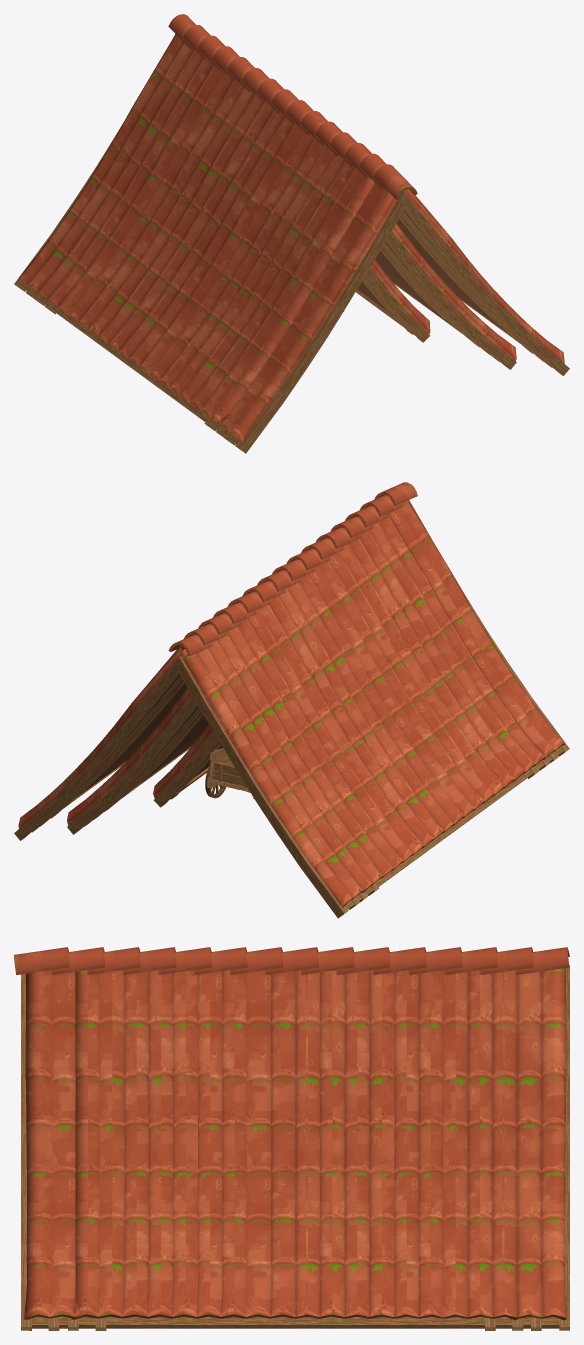
The model's file is village.glb.
The picture shows the model from 3 angles, top to bottom: view 1: azimuth 30°, elevation 25°; view 2: azimuth 150°, elevation 25°; view 3: azimuth 270°, elevation 25°; orthographic projection. The views are drawn at different scales.
Parts seen in each view (by area): view 1: Roof_RoundTiles_8x10, Roof_RoundTiles_8x8, Roof_RoundTiles_6x8, Roof_RoundTiles_4x4, Roof_RoundTiles_6x6; view 2: Roof_RoundTiles_8x10, Roof_RoundTiles_8x8, Roof_RoundTiles_6x8, Roof_RoundTiles_4x4, Prop_Wagon, Roof_RoundTiles_6x6; view 3: Roof_RoundTiles_8x10, Roof_RoundTiles_8x8.
Boxes of the visible parts, x1=… form: Roof_RoundTiles_8x10: x1=14, y1=14, x2=569, y2=453; Roof_RoundTiles_8x8: x1=33, y1=25, x2=543, y2=437; Roof_RoundTiles_6x8: x1=375, y1=223, x2=516, y2=369; Roof_RoundTiles_4x4: x1=356, y1=260, x2=430, y2=342; Roof_RoundTiles_6x6: x1=377, y1=245, x2=490, y2=355; Roof_RoundTiles_8x10: x1=14, y1=482, x2=569, y2=918; Roof_RoundTiles_8x8: x1=40, y1=496, x2=550, y2=901; Roof_RoundTiles_6x8: x1=67, y1=688, x2=208, y2=834; Roof_RoundTiles_4x4: x1=153, y1=724, x2=222, y2=807; Prop_Wagon: x1=205, y1=748, x2=254, y2=799; Roof_RoundTiles_6x6: x1=94, y1=710, x2=207, y2=819; Roof_RoundTiles_8x10: x1=14, y1=947, x2=569, y2=1330; Roof_RoundTiles_8x8: x1=51, y1=947, x2=533, y2=1330.
Bounding box in the file's own units: 9.95 × 6.78 × 11.86.
Materials: 7 (6 with a texture image).
